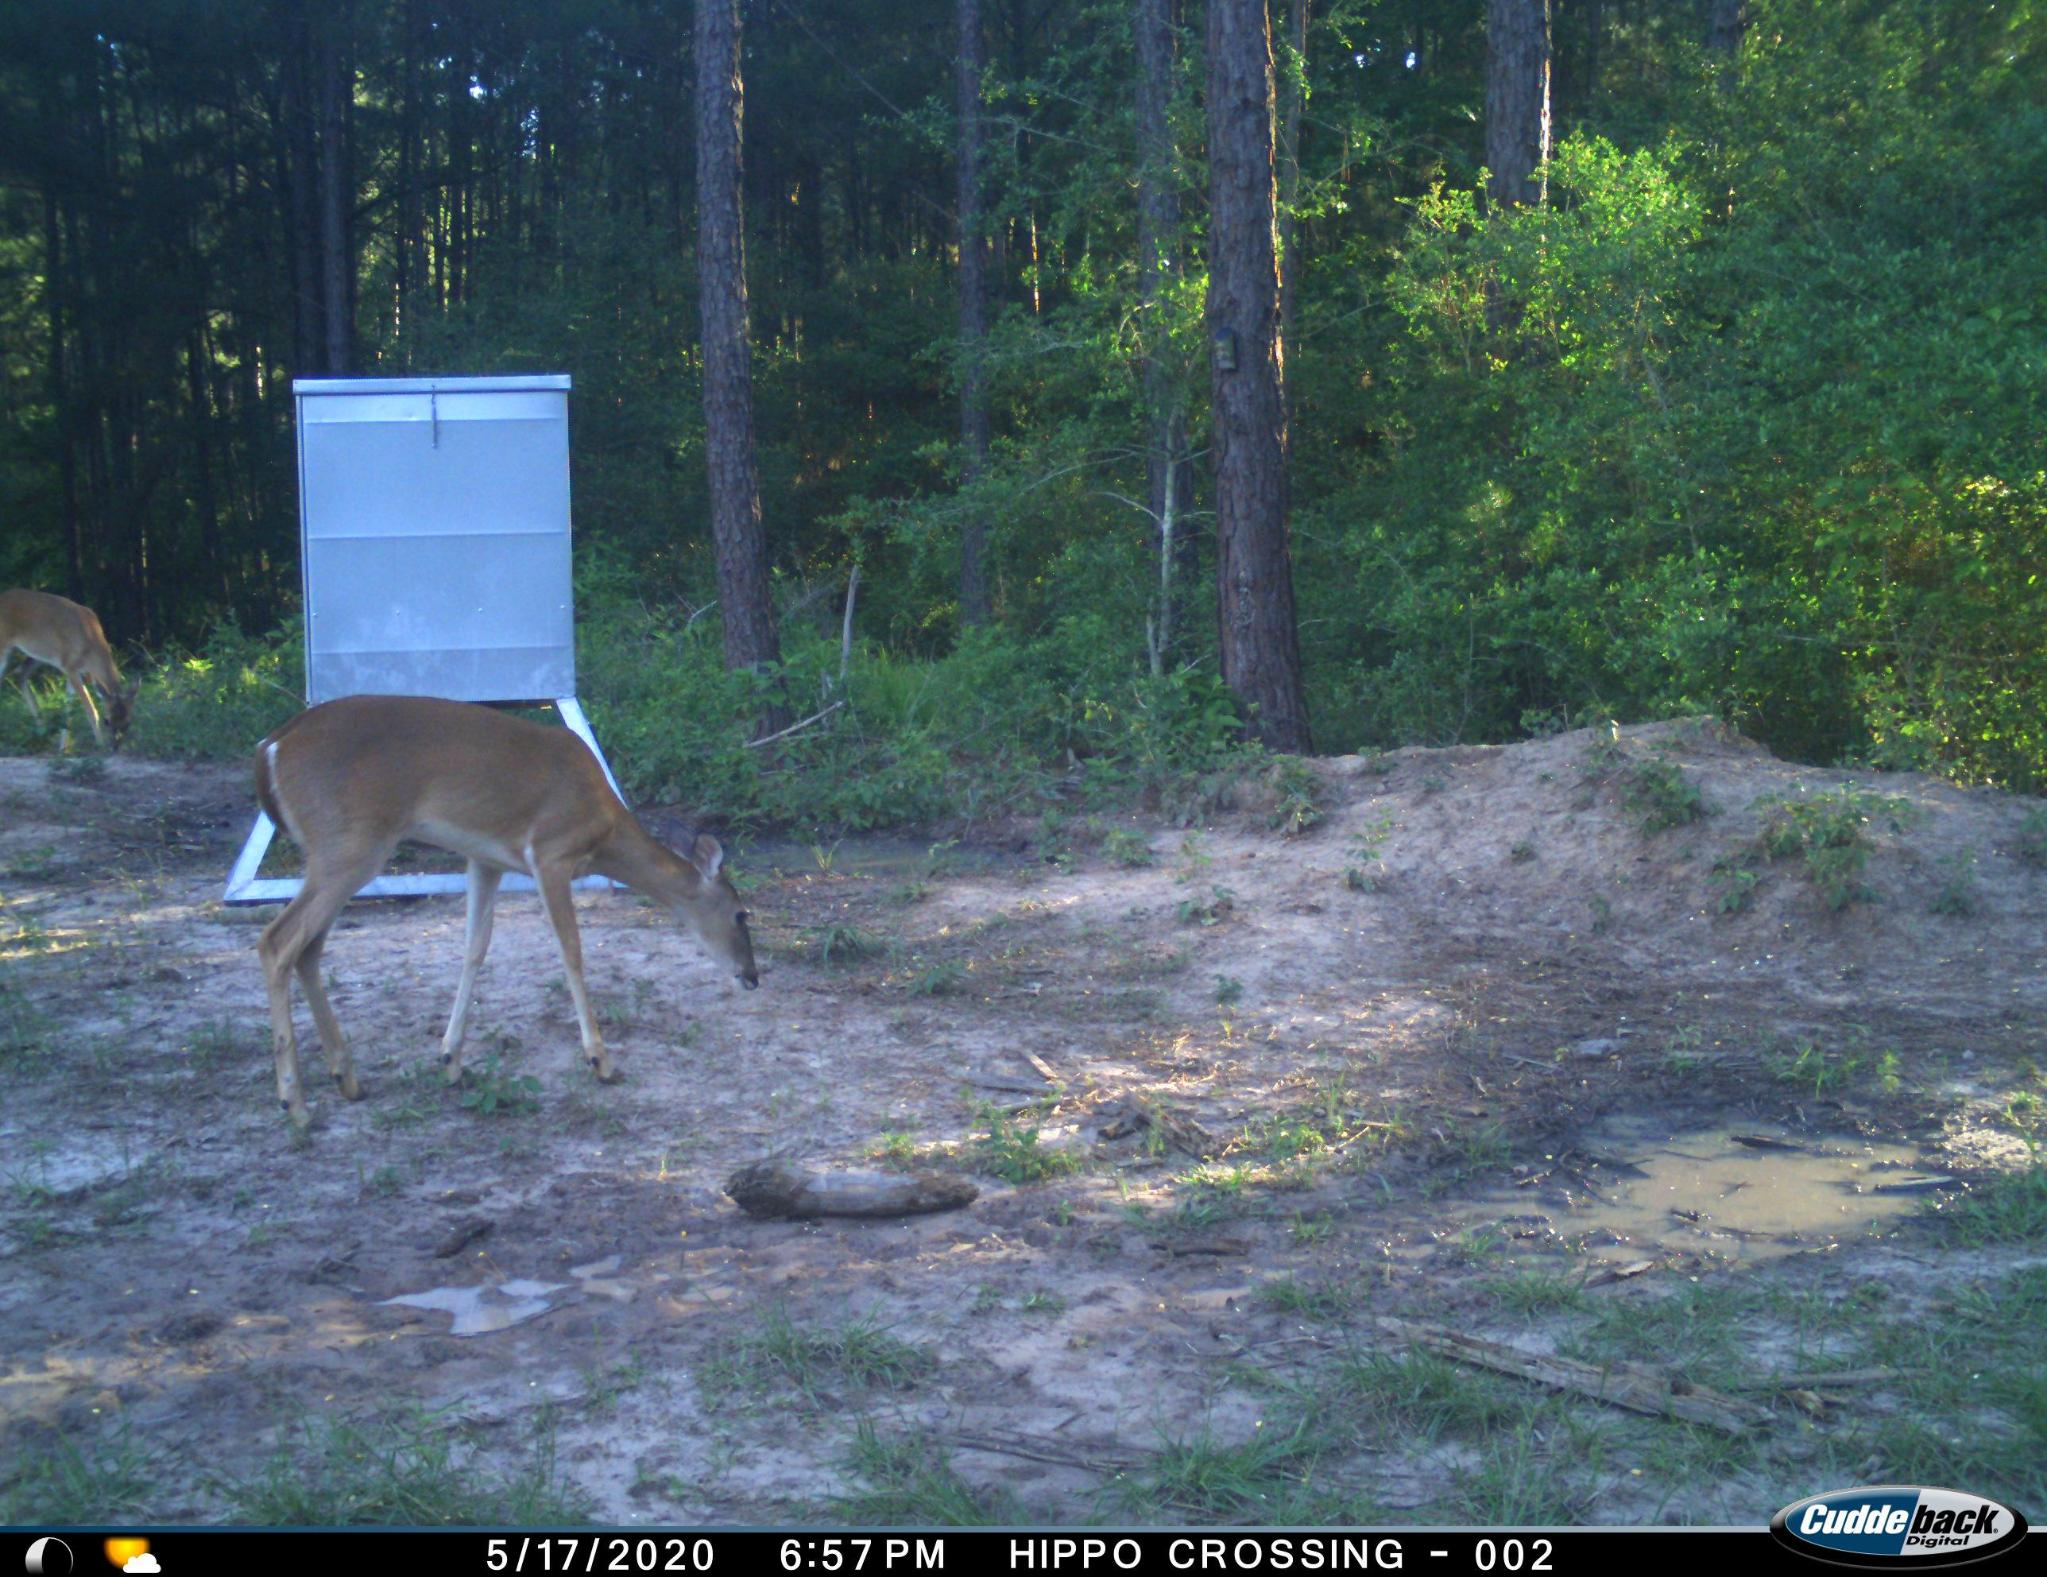Deer: (237, 687, 768, 1135), (0, 575, 144, 755)
